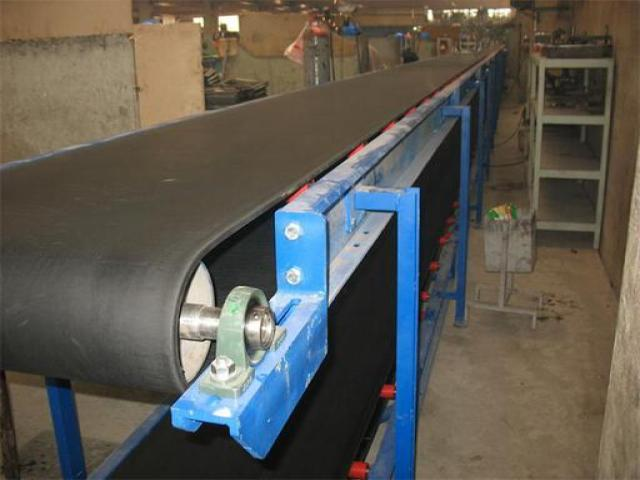conveyor: (0, 41, 510, 478)
